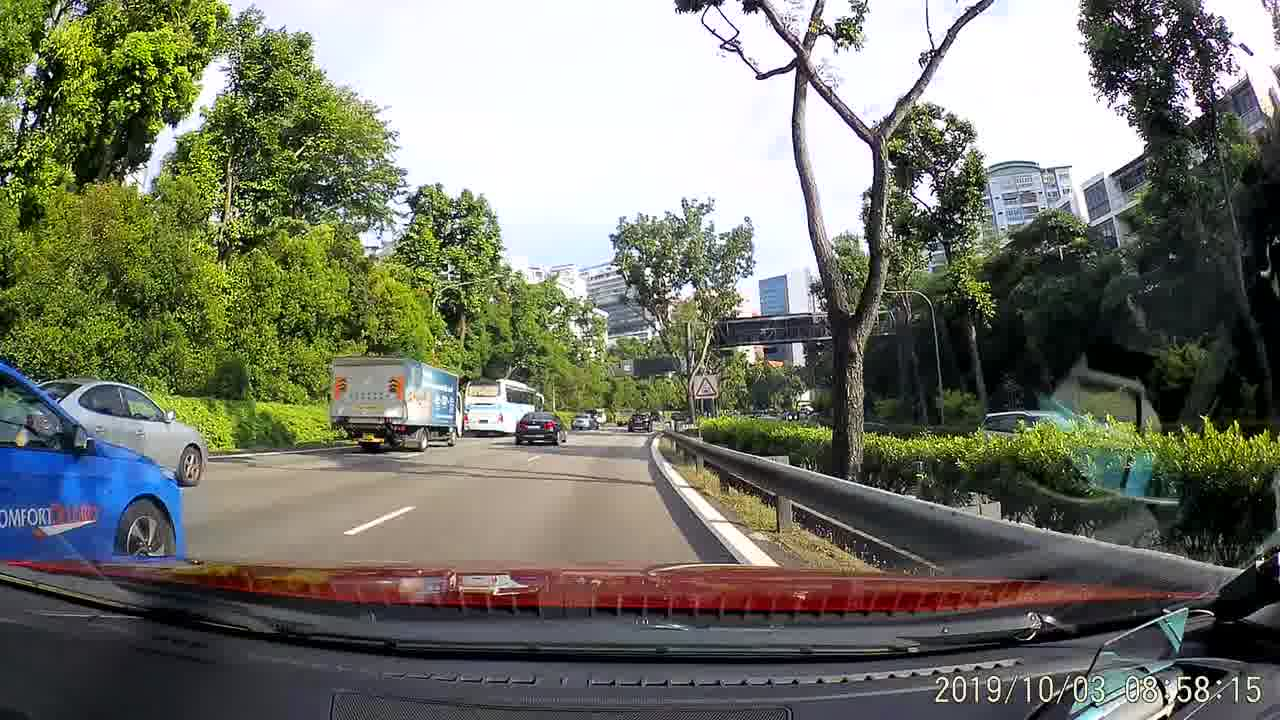bus: (462, 375, 545, 435)
car: (3, 355, 185, 553), (38, 373, 207, 485), (974, 409, 1108, 434), (515, 409, 571, 448), (625, 411, 652, 436), (572, 409, 600, 431)
